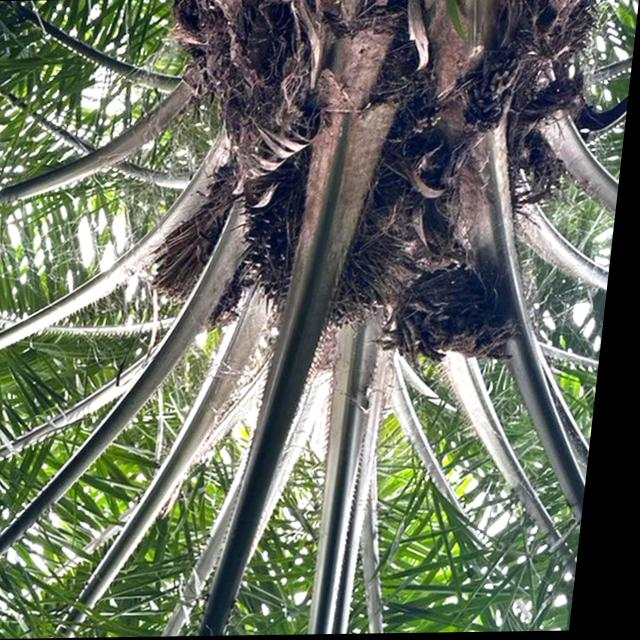almost: (232, 147, 396, 337)
